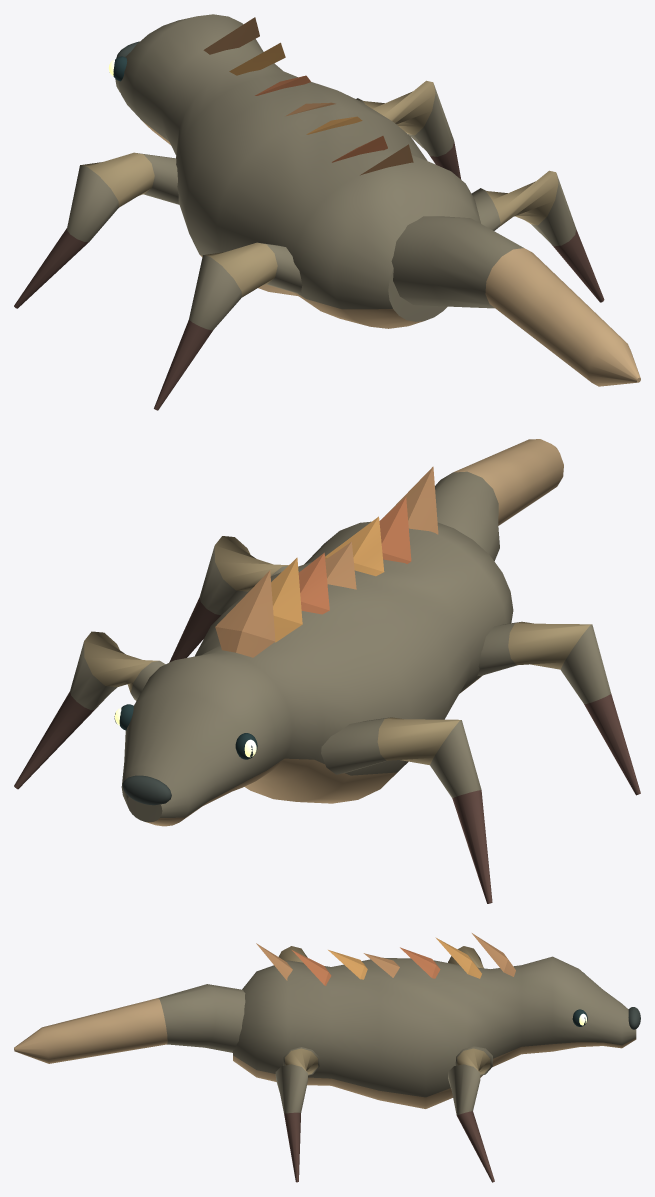
File: volcano_prey.glb
3 renders of one model, top to bottom at view 1: azimuth 30°, elevation 25°; view 2: azimuth 150°, elevation 25°; view 3: azimuth 270°, elevation 25°, orthographic. The views are drawn at different scales.
Visible parts, largest first — view 1: Body, Walk00, Walk02, Walk03, Walk01; view 2: Body, Walk00, Walk02, Walk01, Walk03; view 3: Body, Walk01, Walk03.
Part boxes in pixels (bbox=[...]): Body: bbox=[108, 14, 640, 386]; Walk00: bbox=[14, 152, 179, 308]; Walk02: bbox=[154, 242, 302, 410]; Walk03: bbox=[471, 170, 604, 302]; Walk01: bbox=[356, 80, 461, 179]; Body: bbox=[114, 439, 563, 826]; Walk00: bbox=[321, 717, 492, 903]; Walk02: bbox=[477, 621, 640, 795]; Walk01: bbox=[14, 631, 165, 789]; Walk03: bbox=[169, 536, 288, 662]; Body: bbox=[14, 933, 640, 1108]; Walk01: bbox=[448, 1046, 494, 1182]; Walk03: bbox=[275, 1047, 319, 1182].
Size of the model in its own units: 1.52 by 0.8042 by 2.62.
2 materials, 1 textured.
